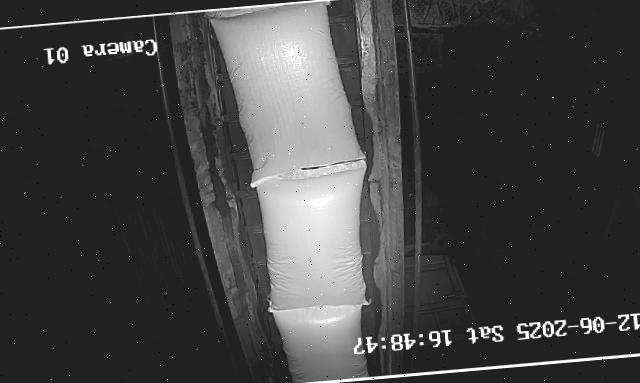bag: (203, 0, 367, 189), (255, 164, 378, 313), (272, 302, 367, 383)
